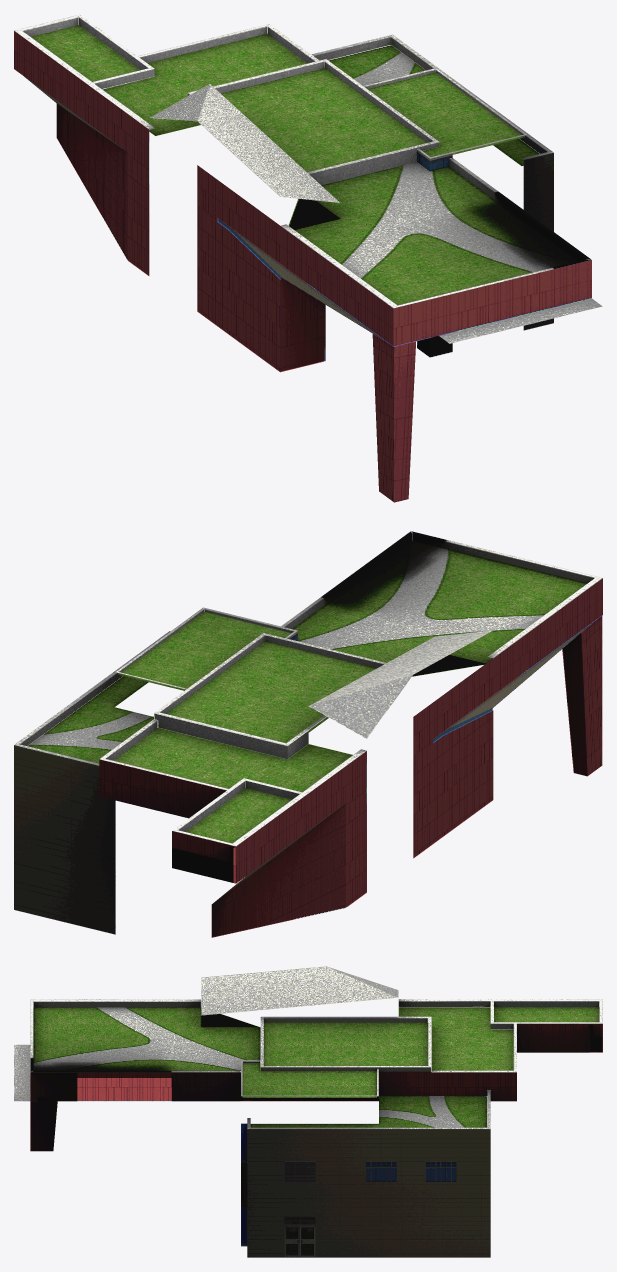
The picture shows the model from 3 angles, top to bottom: view 1: azimuth 30°, elevation 25°; view 2: azimuth 150°, elevation 25°; view 3: azimuth 270°, elevation 25°; orthographic projection. The views are drawn at different scales.
Parts seen in each view (by area): view 1: 1003; view 2: 1003; view 3: 1003.
Boxes of the visible parts, x1,y1,x2,y2 form: 1003: (14,14,602,502); 1003: (14,531,602,937); 1003: (14,966,602,1257).
Size of the model in its own units: 53.76 by 40.16 by 119.
1 material, 1 textured.
